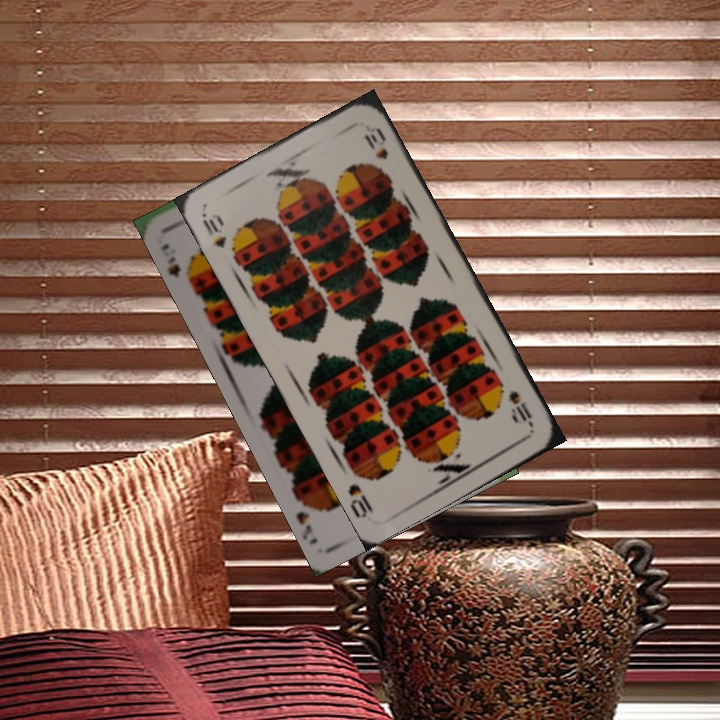S10: (504, 386, 536, 430), (198, 209, 229, 251)
S9: (157, 239, 199, 285)
